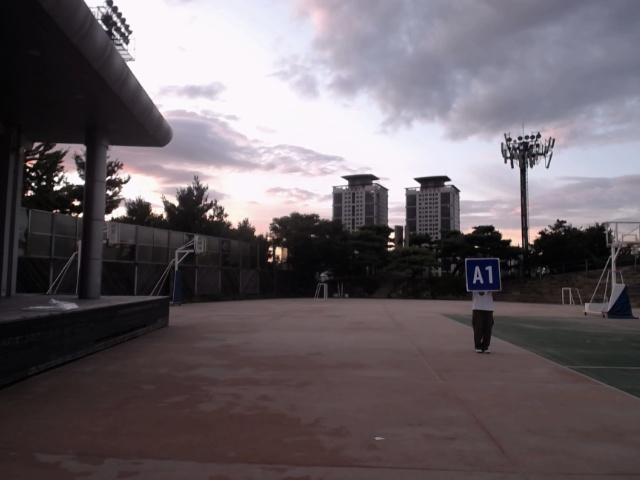delivery_a1: (465, 258, 501, 291)
